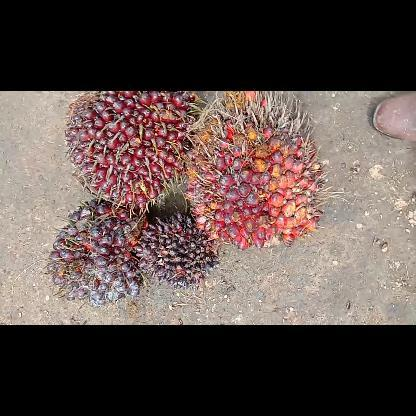Kurang masak: (64, 91, 196, 217), (44, 197, 150, 309)
TBS abnormal: (135, 212, 219, 289)
TBS masak: (183, 90, 323, 252)
